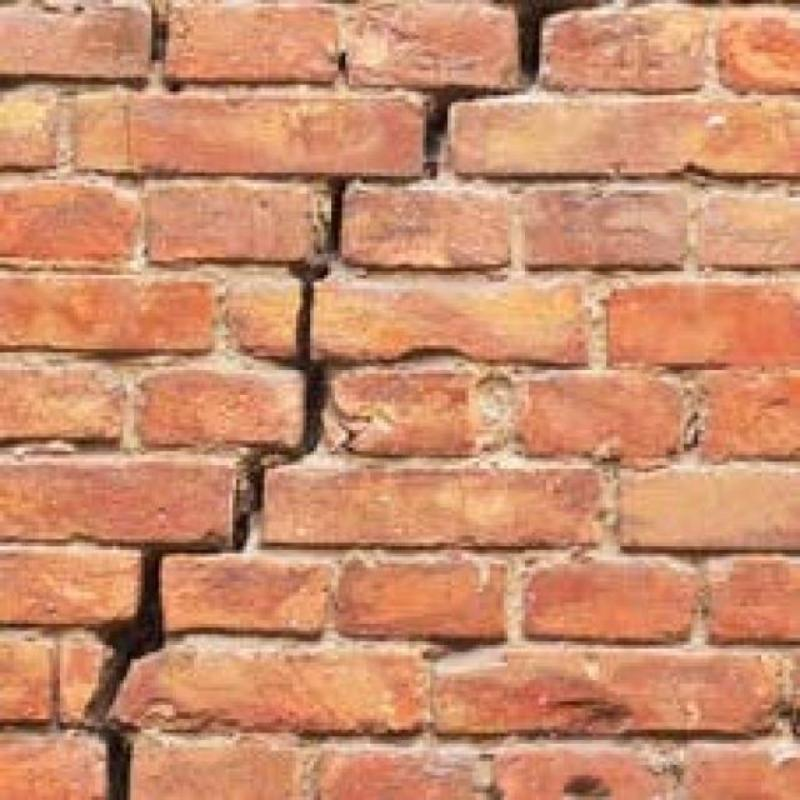pothole: (82, 0, 605, 799)
